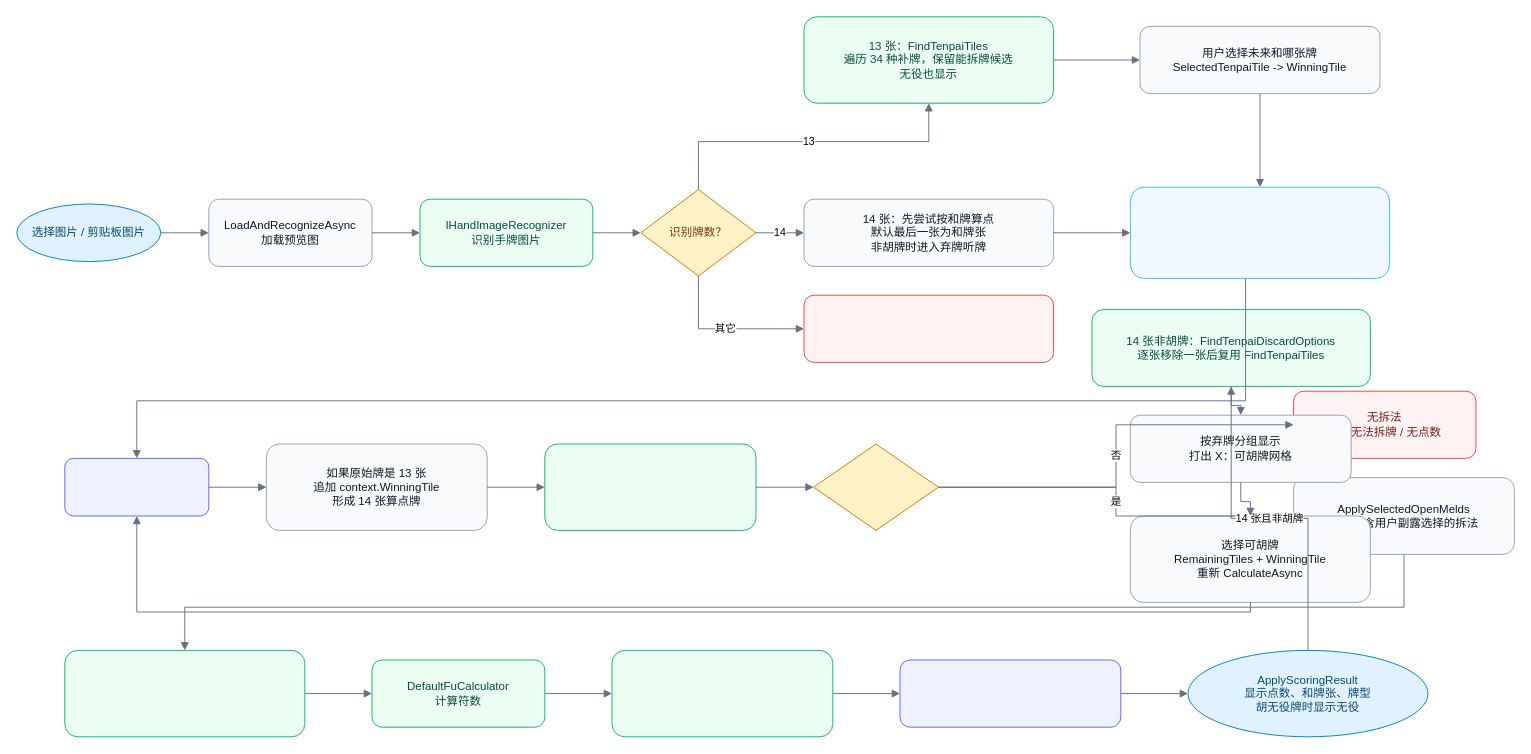
This 1531x754 diagram has some shape labels left out. The shapes that lost their labels are listed below. From the top down, each one's box as (x1, y1, x2, y2) in pixels, then its label:
(1129, 186, 1390, 278): 算点选项写入 ScoringContext 立直 / 一发 / 自摸 / 场风 / 自风 / 副露 / 宝牌数
(803, 294, 1054, 362): 其它牌数：无法进入正常算点 显示当前状态
(64, 457, 209, 516): CalculateAsync
(544, 443, 756, 530): DefaultHandSplitter 拆 4 面子 + 1 雀头 含七对子拆法
(813, 443, 938, 530): 有可用拆法？
(64, 649, 305, 737): DefaultYakuDetector 逐个拆法判役 无役允许进入结果，但点数为 0
(611, 649, 833, 737): DefaultScoreCalculator 役番 + 宝牌番 宝牌不参与算符
(899, 659, 1121, 727): 选择 TotalPoints 最高拆法 作为最高点数形状
